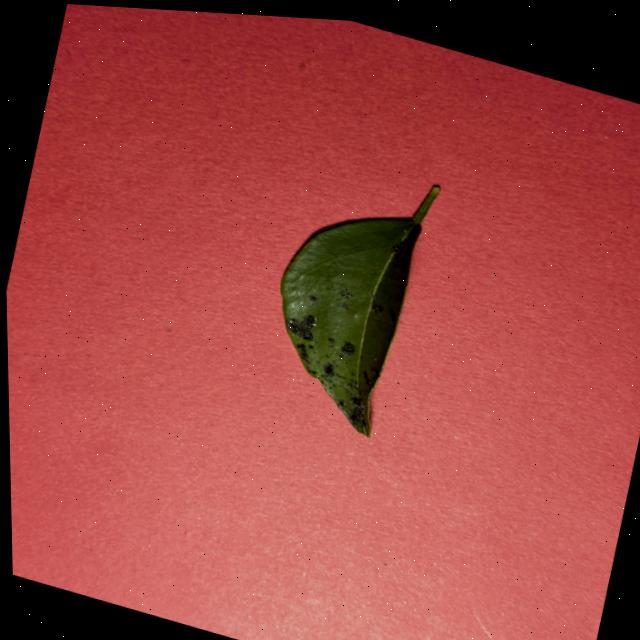sooty_mold: (280, 186, 438, 434)
